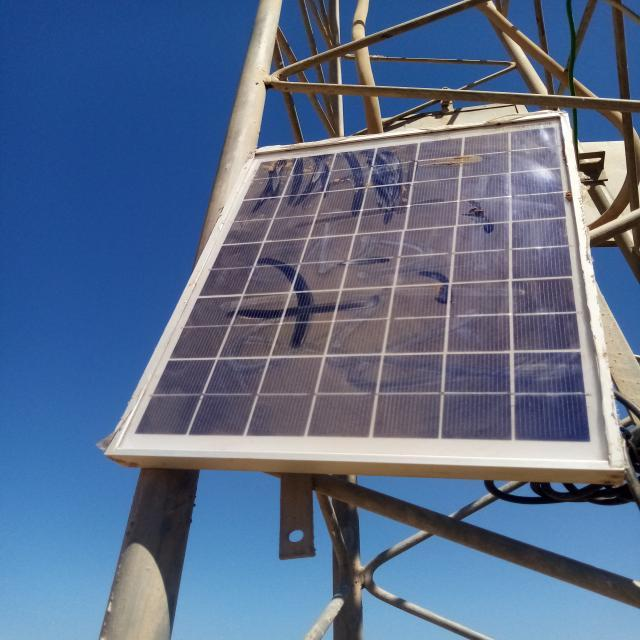faulty: (110, 114, 619, 466)
